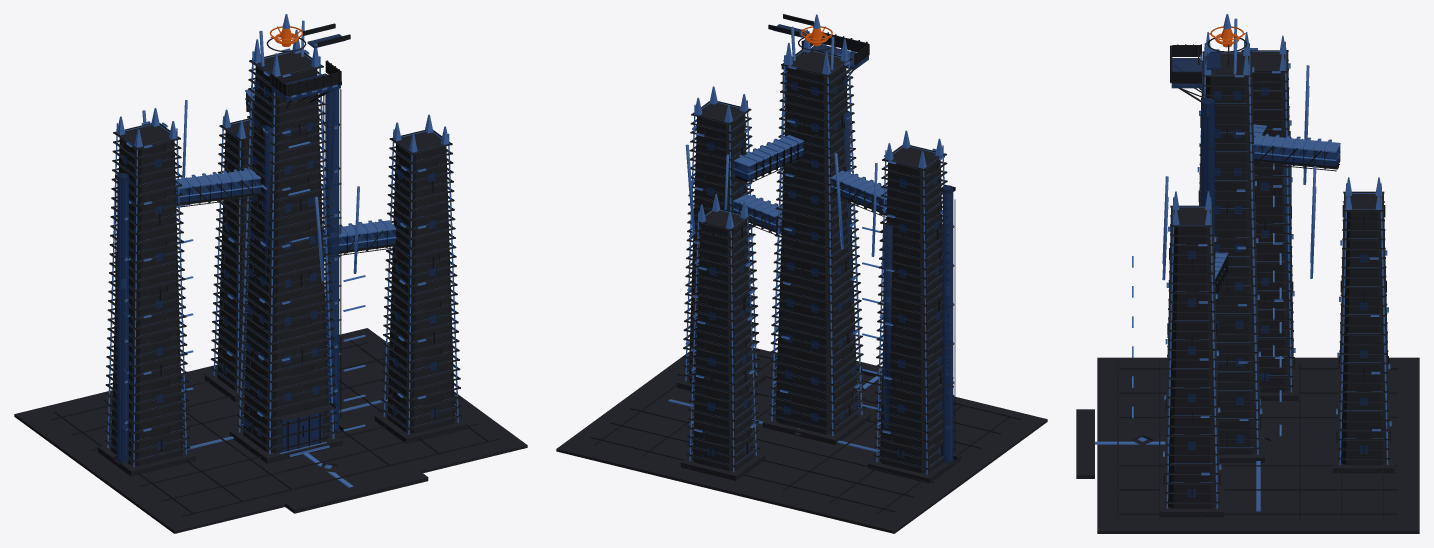
The model's file is career-ext.glb.
3 views of the same model, side by side, from view 1: azimuth 30°, elevation 25°; view 2: azimuth 150°, elevation 25°; view 3: azimuth 270°, elevation 25° (orthographic). The views are drawn at different scales.
Parts seen in each view (by area): view 1: career_s74_base_combined_mesh, career_s74_glass_combined_mesh, career_s74_accent_combined_mesh, career_s74_detail_combined_mesh, career_s74_emissive_combined_mesh; view 2: career_s74_base_combined_mesh, career_s74_accent_combined_mesh, career_s74_glass_combined_mesh, career_s74_detail_combined_mesh, career_s74_emissive_combined_mesh; view 3: career_s74_base_combined_mesh, career_s74_accent_combined_mesh, career_s74_glass_combined_mesh, career_s74_detail_combined_mesh, career_s74_emissive_combined_mesh.
Part boxes in pixels (box(x1,y1,x2,y2)): career_s74_base_combined_mesh: box(14, 50, 527, 533); career_s74_glass_combined_mesh: box(117, 34, 437, 463); career_s74_accent_combined_mesh: box(107, 14, 458, 468); career_s74_detail_combined_mesh: box(50, 23, 499, 516); career_s74_emissive_combined_mesh: box(109, 52, 456, 487); career_s74_base_combined_mesh: box(556, 49, 1047, 533); career_s74_accent_combined_mesh: box(668, 14, 950, 474); career_s74_glass_combined_mesh: box(707, 24, 953, 462); career_s74_detail_combined_mesh: box(590, 14, 1020, 514); career_s74_emissive_combined_mesh: box(687, 51, 949, 466); career_s74_base_combined_mesh: box(1076, 50, 1419, 533); career_s74_accent_combined_mesh: box(1138, 14, 1391, 511); career_s74_glass_combined_mesh: box(1167, 52, 1388, 497); career_s74_detail_combined_mesh: box(1117, 37, 1397, 519); career_s74_emissive_combined_mesh: box(1095, 51, 1383, 482).
Bounding box in the file's own units: 15.8 × 18.36 × 13.21.
